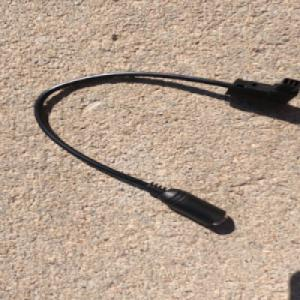Wire: (31, 70, 300, 226)
